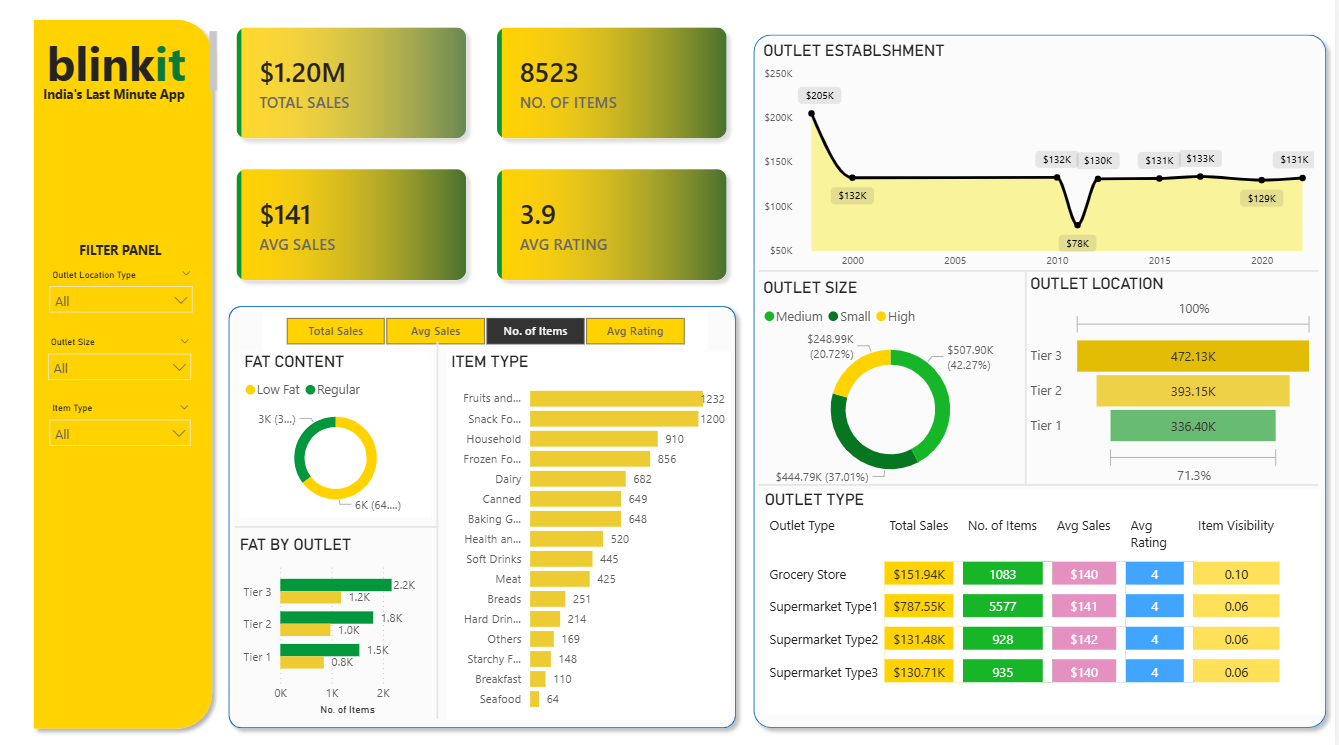

The page's visual inventory and layout, read from the dashboard file:
{"tool":"powerbi","page":{"name":"Page 1","canvas":[1400,800],"ordinal":0},"visuals":[{"type":"shape","box":[31,18.6,204.6,758.6],"z":0},{"type":"textbox","box":[45.5,90.9,171.6,33.1],"z":1000},{"type":"textbox","box":[48.1,34.6,188.5,73.1],"z":2000},{"type":"cardVisual","fields":{"Data":["BlinkIT Grocery Data.Total Sales","BlinkIT Grocery Data.No. of Items","BlinkIT Grocery Data.Avg Sales","BlinkIT Grocery Data.Avg Rating"]},"box":[235.6,18.6,547.7,299.7],"z":3000},{"type":"shape","box":[235.6,318.3,547.7,458.9],"z":4000},{"type":"donutChart","title":"FAT CONTENT","fields":{"Y":["BlinkIT Grocery Data.No. of Items"],"Category":["BlinkIT Grocery Data.Item Fat Content"]},"box":[255.8,375,200,173.1],"z":5000},{"type":"slicer","fields":{"Values":["Metrics.Metrics"]},"box":[279,332.8,465.1,41.3],"z":6000},{"type":"clusteredBarChart","title":"FAT BY OUTLET","fields":{"Y":["BlinkIT Grocery Data.No. of Items"],"Category":["BlinkIT Grocery Data.Outlet Location Type"],"Series":["BlinkIT Grocery Data.Item Fat Content"]},"box":[250.1,566.1,199.7,192.8],"z":7000},{"type":"shape","box":[250.1,547.7,212.9,18.6],"z":8000},{"type":"shape","box":[452.7,363.8,18.6,394.8],"z":9000},{"type":"barChart","title":"ITEM TYPE","fields":{"Y":["BlinkIT Grocery Data.No. of Items"],"Category":["BlinkIT Grocery Data.Item Type"]},"box":[471.3,374.1,295.6,384.5],"z":10000},{"type":"shape","box":[783.4,35.1,615.9,742],"z":11000},{"type":"lineChart","title":"OUTLET ESTABLSHMENT","fields":{"Y":["BlinkIT Grocery Data.Total Sales"],"Category":["BlinkIT Grocery Data.Outlet Establishment Year"]},"box":[797.8,49.6,584.9,246],"z":12000},{"type":"shape","box":[797.8,285.2,584.9,10.3],"z":13000},{"type":"donutChart","title":"OUTLET SIZE","fields":{"Y":["BlinkIT Grocery Data.Total Sales"],"Category":["BlinkIT Grocery Data.Outlet Size"]},"box":[797.8,297.6,274.9,225.3],"z":14000},{"type":"shape","box":[1056.2,291.4,41.3,223.2],"z":15000},{"type":"funnel","title":"OUTLET LOCATION","fields":{"Y":["Sum(BlinkIT Grocery Data.Sales)"],"Category":["BlinkIT Grocery Data.Outlet Location Type"]},"box":[1076.9,292.3,305.8,225],"z":16000},{"type":"shape","box":[797.8,504.3,584.9,18.6],"z":17000},{"type":"pivotTable","title":"OUTLET TYPE","fields":{"Rows":["BlinkIT Grocery Data.Outlet Type"],"Values":["BlinkIT Grocery Data.Total Sales","BlinkIT Grocery Data.No. of Items","BlinkIT Grocery Data.Avg Sales","BlinkIT Grocery Data.Avg Rating","Avg(BlinkIT Grocery Data.Item Visibility)"]},"box":[798.1,557.7,584.6,234.6],"z":18000},{"type":"slicer","fields":{"Values":["BlinkIT Grocery Data.Outlet Location Type"]},"box":[47.5,283.2,169.5,70.3],"z":19000},{"type":"slicer","fields":{"Values":["BlinkIT Grocery Data.Outlet Size"]},"box":[45.5,353.4,169.5,70.3],"z":20000},{"type":"slicer","fields":{"Values":["BlinkIT Grocery Data.Item Type"]},"box":[47.5,423.7,167.4,59.9],"z":21000},{"type":"textbox","box":[82.7,253.8,105.8,28.8],"z":22000}]}

Visuals, with their boxes in screenshot pixels (x1, y1, x2, y2), scaled from the page's 1400x800 canvas onto the 1339x745 screenshot:
shape: (x1=30, y1=17, x2=225, y2=724)
textbox: (x1=44, y1=85, x2=208, y2=115)
textbox: (x1=46, y1=32, x2=226, y2=100)
cardVisual - BlinkIT Grocery Data.Total Sales x BlinkIT Grocery Data.No. of Items: (x1=225, y1=17, x2=749, y2=296)
shape: (x1=225, y1=296, x2=749, y2=724)
"FAT CONTENT" donutChart: (x1=245, y1=349, x2=436, y2=510)
slicer - Metrics.Metrics: (x1=267, y1=310, x2=712, y2=348)
"FAT BY OUTLET" clusteredBarChart: (x1=239, y1=527, x2=430, y2=707)
shape: (x1=239, y1=510, x2=443, y2=527)
shape: (x1=433, y1=339, x2=451, y2=706)
"ITEM TYPE" barChart: (x1=451, y1=348, x2=733, y2=706)
shape: (x1=749, y1=33, x2=1338, y2=724)
"OUTLET ESTABLSHMENT" lineChart: (x1=763, y1=46, x2=1322, y2=275)
shape: (x1=763, y1=266, x2=1322, y2=275)
"OUTLET SIZE" donutChart: (x1=763, y1=277, x2=1026, y2=487)
shape: (x1=1010, y1=271, x2=1050, y2=479)
"OUTLET LOCATION" funnel: (x1=1030, y1=272, x2=1322, y2=482)
shape: (x1=763, y1=470, x2=1322, y2=487)
"OUTLET TYPE" pivotTable: (x1=763, y1=519, x2=1322, y2=738)
slicer - BlinkIT Grocery Data.Outlet Location Type: (x1=45, y1=264, x2=208, y2=329)
slicer - BlinkIT Grocery Data.Outlet Size: (x1=44, y1=329, x2=206, y2=395)
slicer - BlinkIT Grocery Data.Item Type: (x1=45, y1=395, x2=206, y2=450)
textbox: (x1=79, y1=236, x2=180, y2=263)
